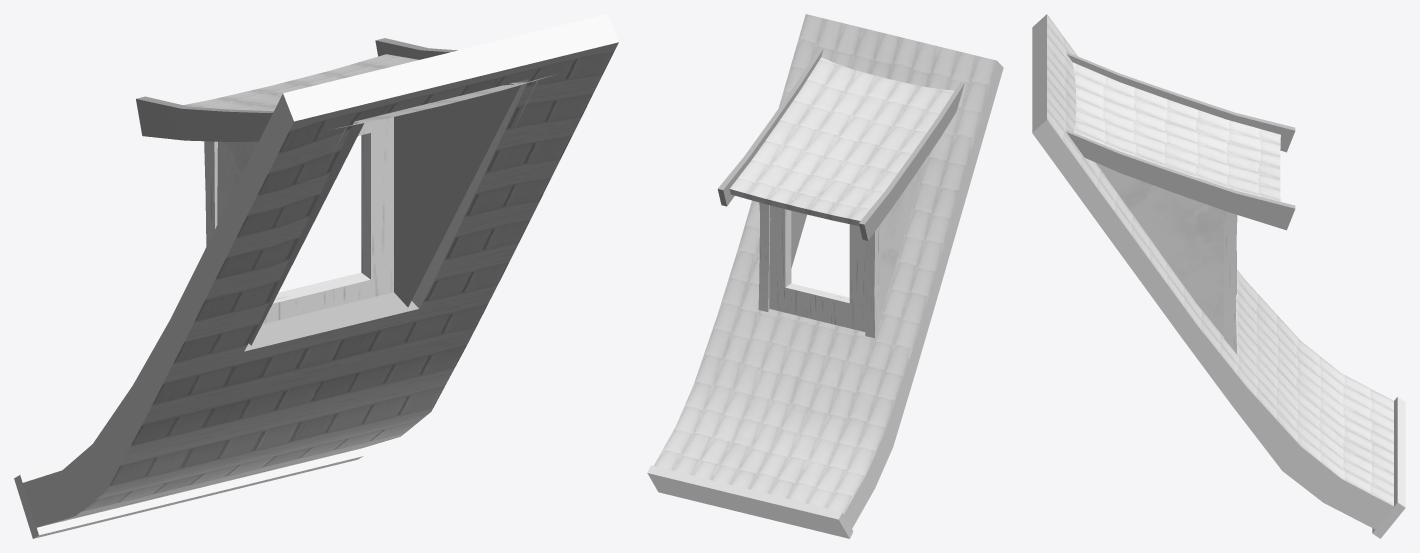
The model's file is ARC0110016.fbx.
3 views of the same model, side by side, from view 1: azimuth 30°, elevation 25°; view 2: azimuth 150°, elevation 25°; view 3: azimuth 270°, elevation 25° (orthographic). The views are drawn at different scales.
Visible parts, largest first — view 1: smARC0110016; view 2: smARC0110016; view 3: smARC0110016.
Part boxes in pixels (x1,y1,x2,y2): smARC0110016: (14, 14, 618, 538); smARC0110016: (647, 14, 1003, 538); smARC0110016: (1032, 14, 1405, 538).
Size of what is drawn, in the model's own units: 191 by 354 by 285.
1 material, 1 textured.
